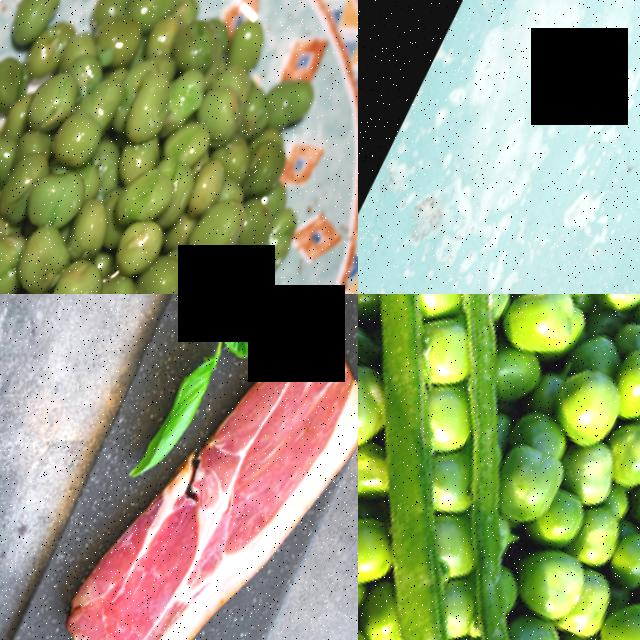peas: (0, 0, 337, 294), (358, 294, 609, 640), (480, 298, 640, 621), (358, 294, 420, 640), (489, 539, 640, 640)
pork belly: (185, 294, 358, 567), (52, 461, 257, 640)
